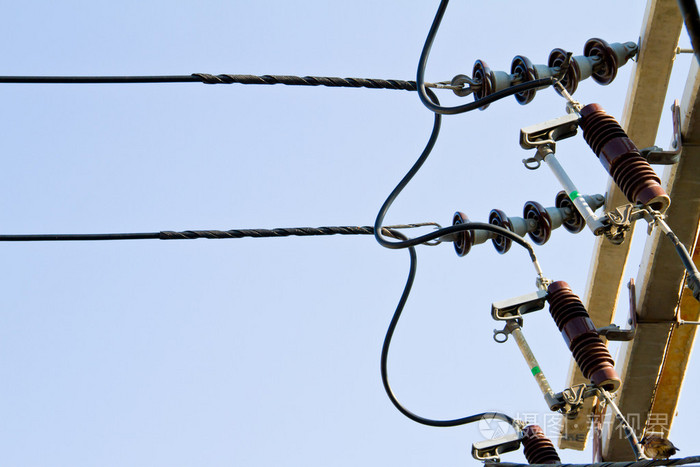insulator: (469, 40, 619, 105), (450, 191, 585, 255)
